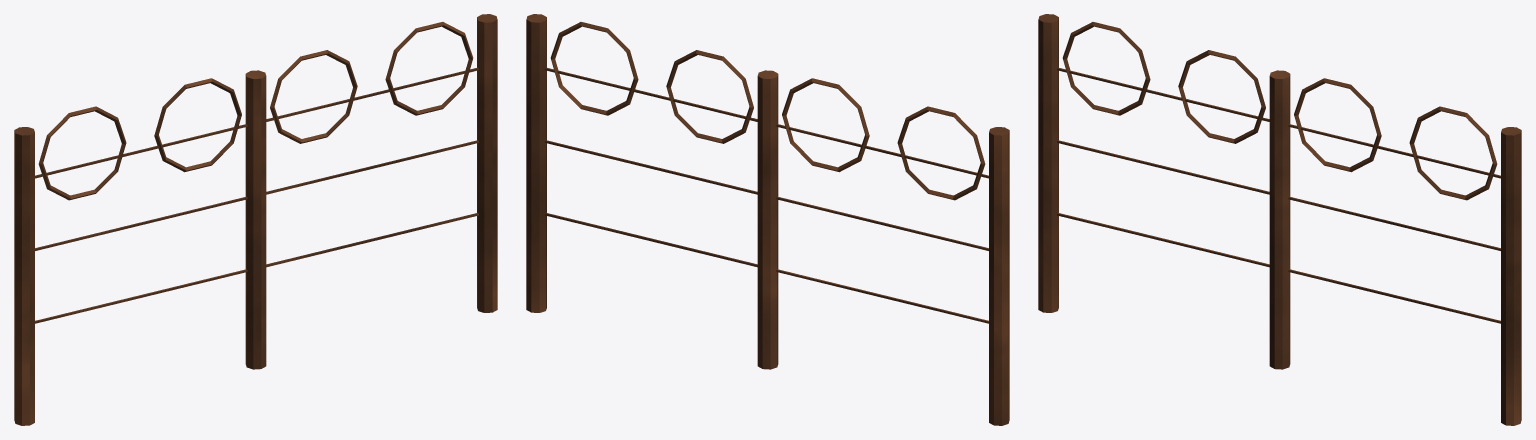
The model's file is barbed_wire.glb.
The picture shows the model from 3 angles, left to right: view 1: azimuth 30°, elevation 25°; view 2: azimuth 150°, elevation 25°; view 3: azimuth 330°, elevation 25°; orthographic projection.
Visible parts, largest first — view 1: barbed_wire; view 2: barbed_wire; view 3: barbed_wire.
Part boxes in pixels (left/top/right/bottom): barbed_wire: left=14, top=14, right=497, bottom=425; barbed_wire: left=526, top=14, right=1009, bottom=425; barbed_wire: left=1038, top=14, right=1521, bottom=425.
Size of the model in its own units: 2.08 by 1.23 by 0.08.
Materials: 1 (1 with a texture image).
